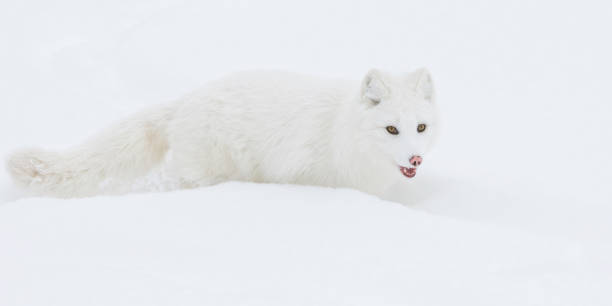arcticfox: (361, 86, 429, 187)
